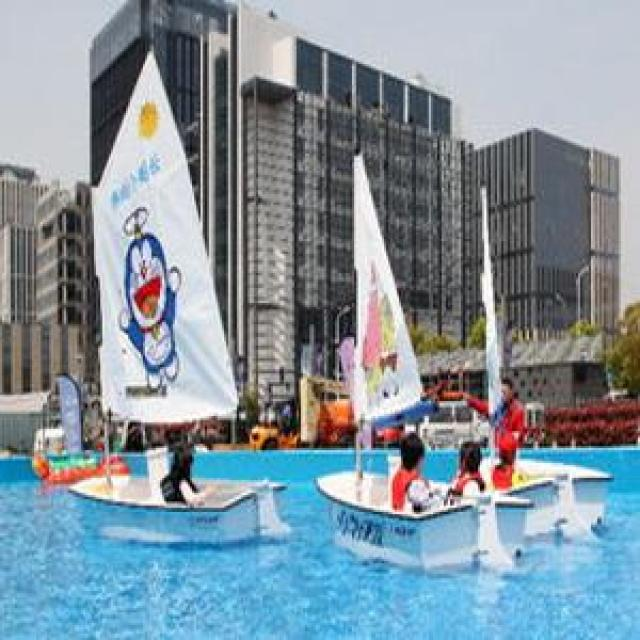sailboat: (76, 55, 282, 538), (316, 152, 475, 546)
